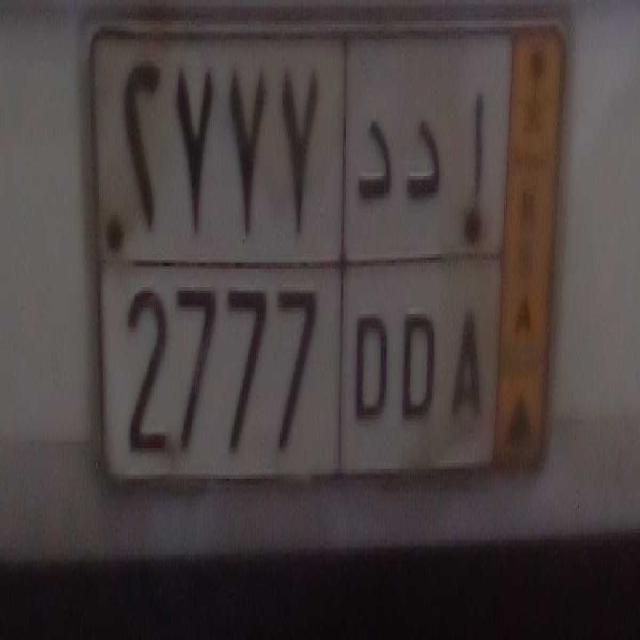license_plate: (95, 256, 501, 486)
